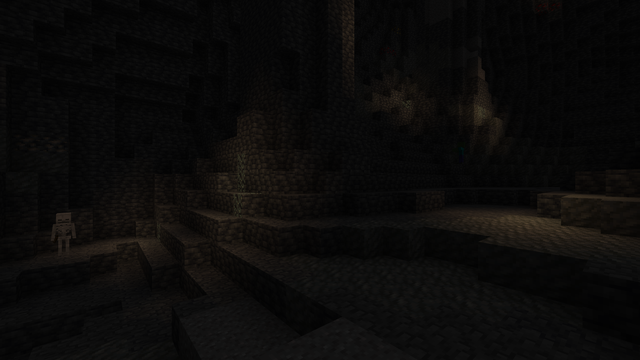squelettes: (54, 212, 72, 256)
zombies: (456, 142, 465, 164)
